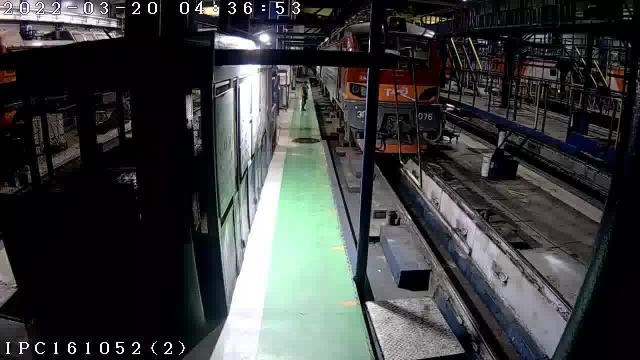person: (301, 81, 308, 110)
train: (376, 17, 443, 154)
